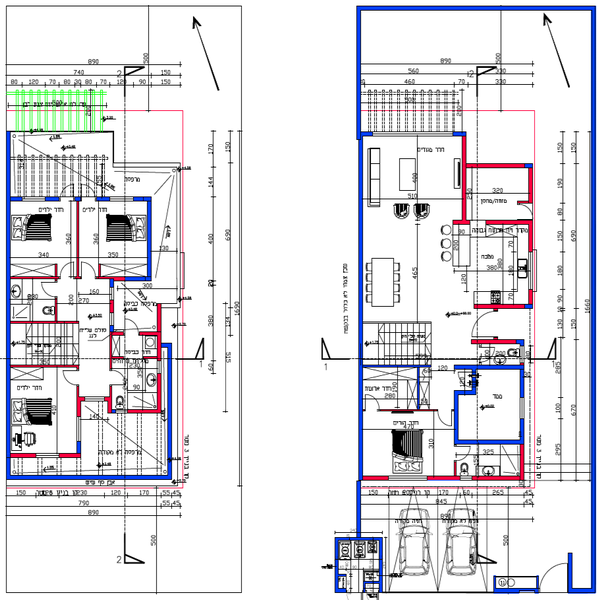door: (467, 304, 506, 339), (120, 309, 141, 335), (107, 366, 129, 390), (432, 407, 454, 429), (365, 389, 384, 412), (39, 282, 62, 299), (76, 264, 96, 282), (59, 368, 78, 386), (57, 261, 73, 279), (60, 184, 75, 203), (451, 445, 468, 461), (80, 185, 97, 199)
room: (353, 127, 474, 364), (366, 363, 526, 489), (10, 364, 172, 482), (358, 129, 537, 224), (457, 154, 528, 361), (7, 279, 165, 363), (70, 192, 156, 285), (7, 191, 78, 282)
wall: (589, 3, 599, 600), (356, 3, 363, 540), (5, 130, 11, 477), (357, 3, 591, 11), (154, 308, 166, 414), (10, 474, 172, 481), (167, 344, 174, 476), (358, 130, 467, 138), (74, 197, 84, 278), (457, 364, 520, 376), (449, 437, 514, 448), (106, 280, 114, 364), (461, 133, 468, 221), (10, 363, 77, 372), (147, 195, 154, 281), (108, 406, 158, 418), (471, 302, 531, 312), (363, 364, 429, 373), (11, 453, 82, 461), (459, 162, 528, 170), (567, 554, 581, 593), (76, 394, 84, 461), (448, 388, 459, 435), (527, 158, 538, 201), (15, 319, 79, 325), (7, 275, 58, 282), (95, 278, 151, 284), (489, 217, 537, 224), (13, 197, 57, 204), (80, 394, 107, 405), (528, 223, 537, 249), (53, 299, 60, 323)
window: (37, 450, 62, 462), (109, 196, 138, 206), (75, 414, 86, 440), (389, 474, 422, 482), (21, 196, 45, 205), (458, 471, 473, 484), (110, 285, 117, 304), (107, 312, 116, 326)
